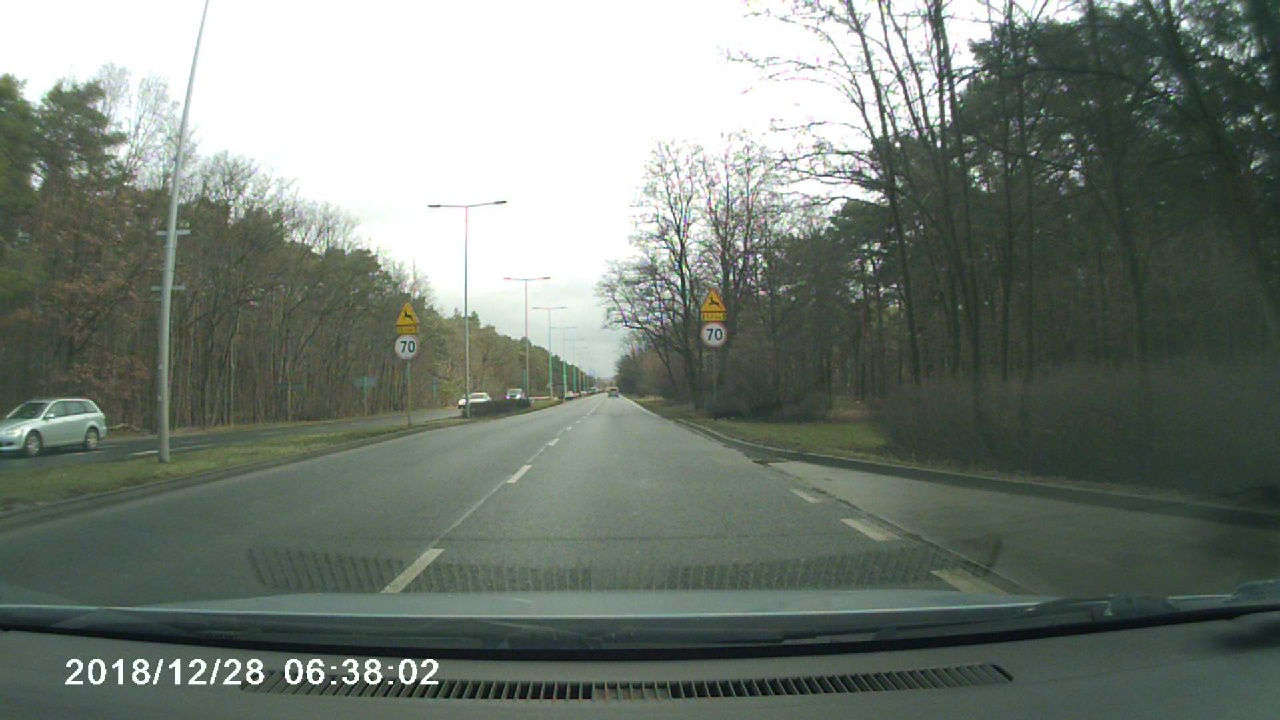B33_70: (391, 335, 422, 358), (701, 326, 728, 346)
